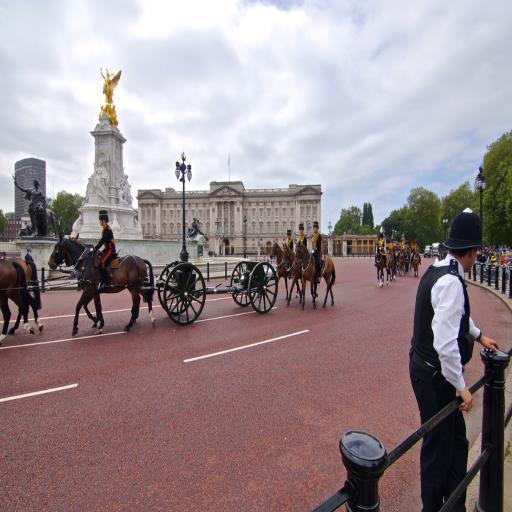horse: (46, 230, 154, 326), (62, 230, 156, 328), (2, 256, 44, 333), (292, 240, 336, 307), (0, 262, 31, 344), (281, 241, 318, 309), (374, 240, 420, 289), (267, 240, 299, 300)
